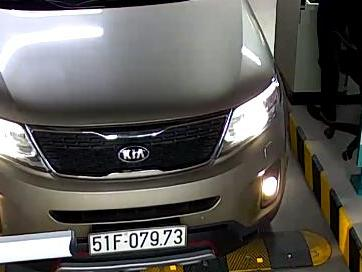number: (90, 224, 186, 258)
